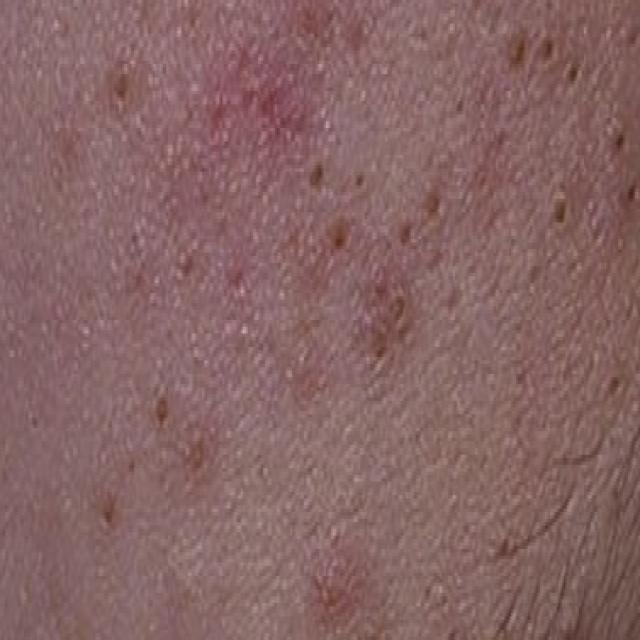blackhead: (505, 32, 527, 72), (153, 388, 170, 429), (550, 192, 568, 230), (396, 314, 416, 347), (498, 526, 516, 562), (113, 70, 130, 104), (388, 292, 405, 326), (189, 435, 205, 471), (308, 160, 326, 192), (424, 190, 442, 218), (607, 371, 624, 398), (26, 402, 40, 433), (540, 35, 554, 66), (180, 248, 194, 278), (398, 221, 412, 247), (626, 177, 640, 203), (103, 494, 114, 527), (565, 63, 579, 87), (333, 225, 345, 250), (614, 124, 624, 154), (354, 168, 365, 194), (126, 450, 136, 478), (374, 342, 386, 362), (454, 93, 464, 116)
